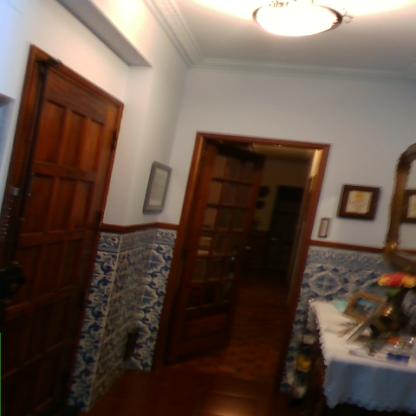closed: (7, 39, 117, 416)
open: (171, 112, 344, 398)
